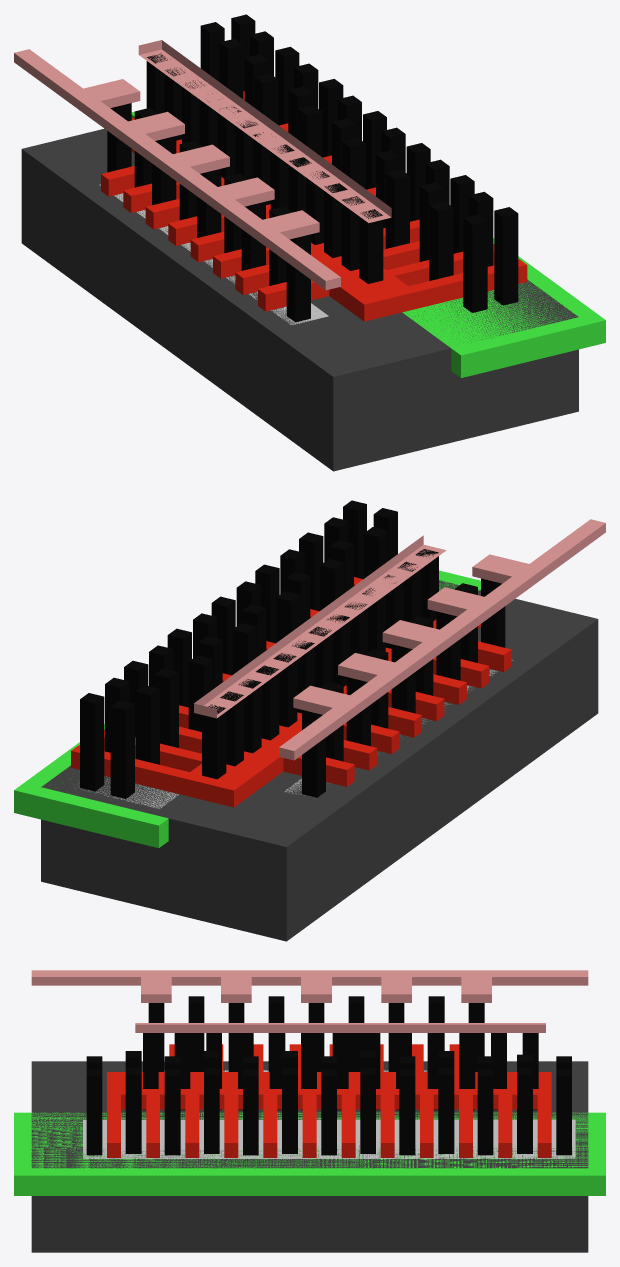
The model's file is sky130_fd_sc_hd__lpflow_clkinvkapwr_8.obj.
3 renders of one model, top to bottom at view 1: azimuth 30°, elevation 25°; view 2: azimuth 150°, elevation 25°; view 3: azimuth 270°, elevation 25°, orthographic. The views are drawn at different scales.
Visible parts, largest first — view 1: subs, licon, li, poly, nwell, diff; view 2: subs, licon, li, poly, nwell, tap; view 3: subs, licon, nwell, poly, li, tap.
Part boxes in pixels (<box>): subs: <box>21,128,578,471</box>; licon: <box>107,14,518,322</box>; li: <box>14,40,391,290</box>; poly: <box>101,91,527,321</box>; nwell: <box>131,111,605,377</box>; diff: <box>99,184,328,324</box>; subs: <box>41,580,598,941</box>; licon: <box>80,500,505,798</box>; li: <box>194,519,605,760</box>; poly: <box>71,577,511,807</box>; nwell: <box>14,570,480,848</box>; tap: <box>78,776,178,808</box>; subs: <box>31,1061,588,1252</box>; licon: <box>86,996,571,1155</box>; nwell: <box>14,1112,605,1195</box>; poly: <box>107,1044,551,1157</box>; li: <box>31,970,588,1032</box>; tap: <box>83,1119,575,1158</box>.
Bounding box in the file's own units: 3 × 2.04 × 6.36.
